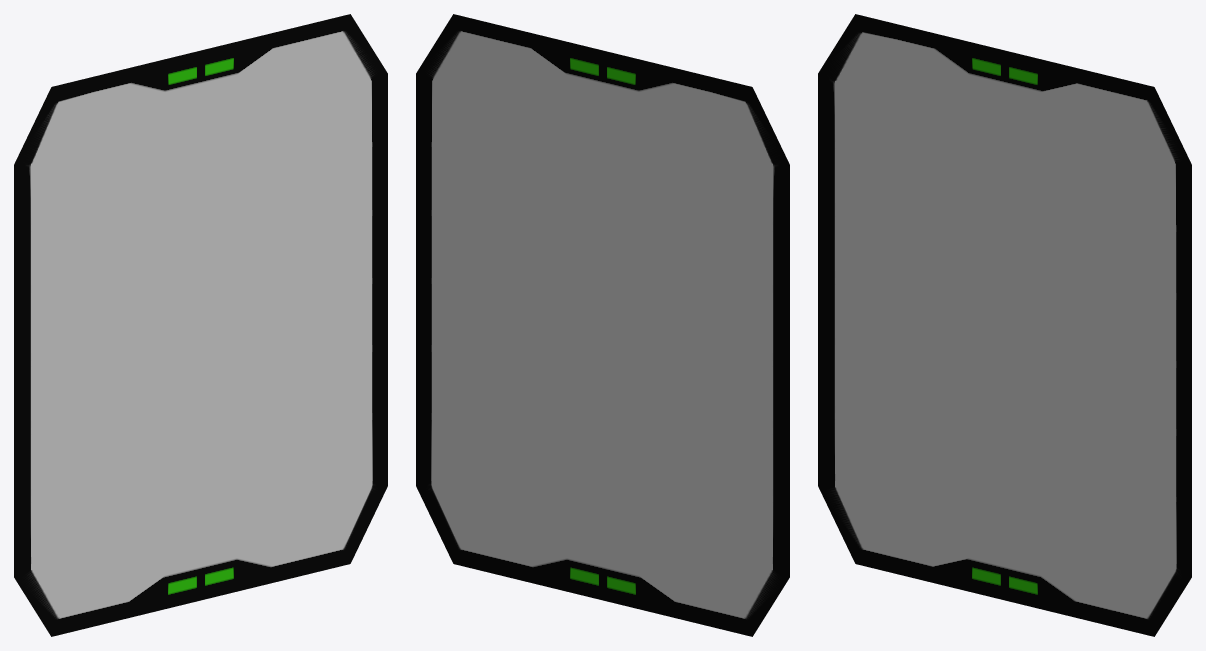
Rendered from target_3dmodel.fbx.
3 views of the same model, side by side, from view 1: azimuth 30°, elevation 25°; view 2: azimuth 150°, elevation 25°; view 3: azimuth 330°, elevation 25° (orthographic).
Parts seen in each view (by area): view 1: pPlane1; view 2: pPlane1; view 3: pPlane1.
Boxes of the visible parts, x1,y1,x2,y2 form: pPlane1: (14,14,387,636); pPlane1: (416,14,789,636); pPlane1: (818,14,1191,636).
Bounding box in the file's own units: 23.1 × 32.46 × 1.19e-07.
